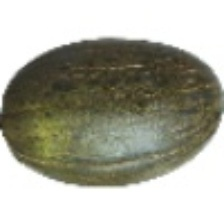honeydew: (0, 46, 190, 223)
